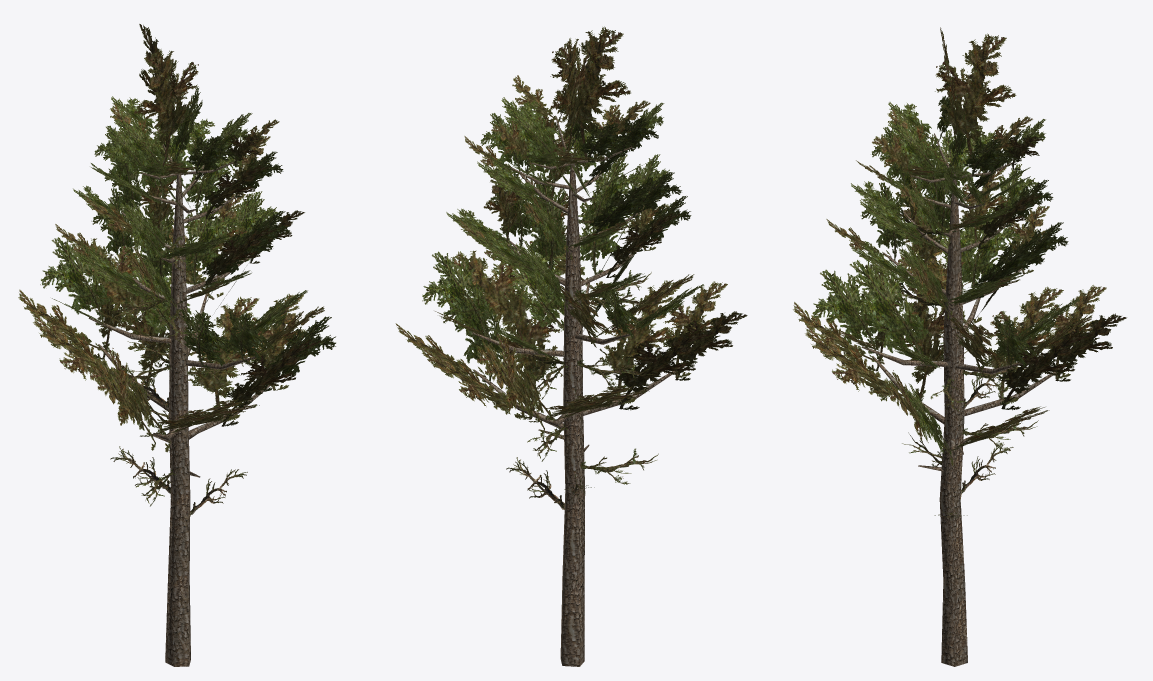
File: pineB2.FBX
The picture shows the model from 3 angles, left to right: view 1: azimuth 30°, elevation 25°; view 2: azimuth 150°, elevation 25°; view 3: azimuth 270°, elevation 25°; orthographic projection. The views are drawn at different scales.
Visible parts, largest first — view 1: Cylinder001; view 2: Cylinder001; view 3: Cylinder001.
Boxes of the visible parts, x1,y1,x2,y2 form: Cylinder001: (18,24,335,666); Cylinder001: (395,26,747,666); Cylinder001: (793,27,1126,666).
Size of the model in its own units: 18.82 by 38.36 by 19.56.
